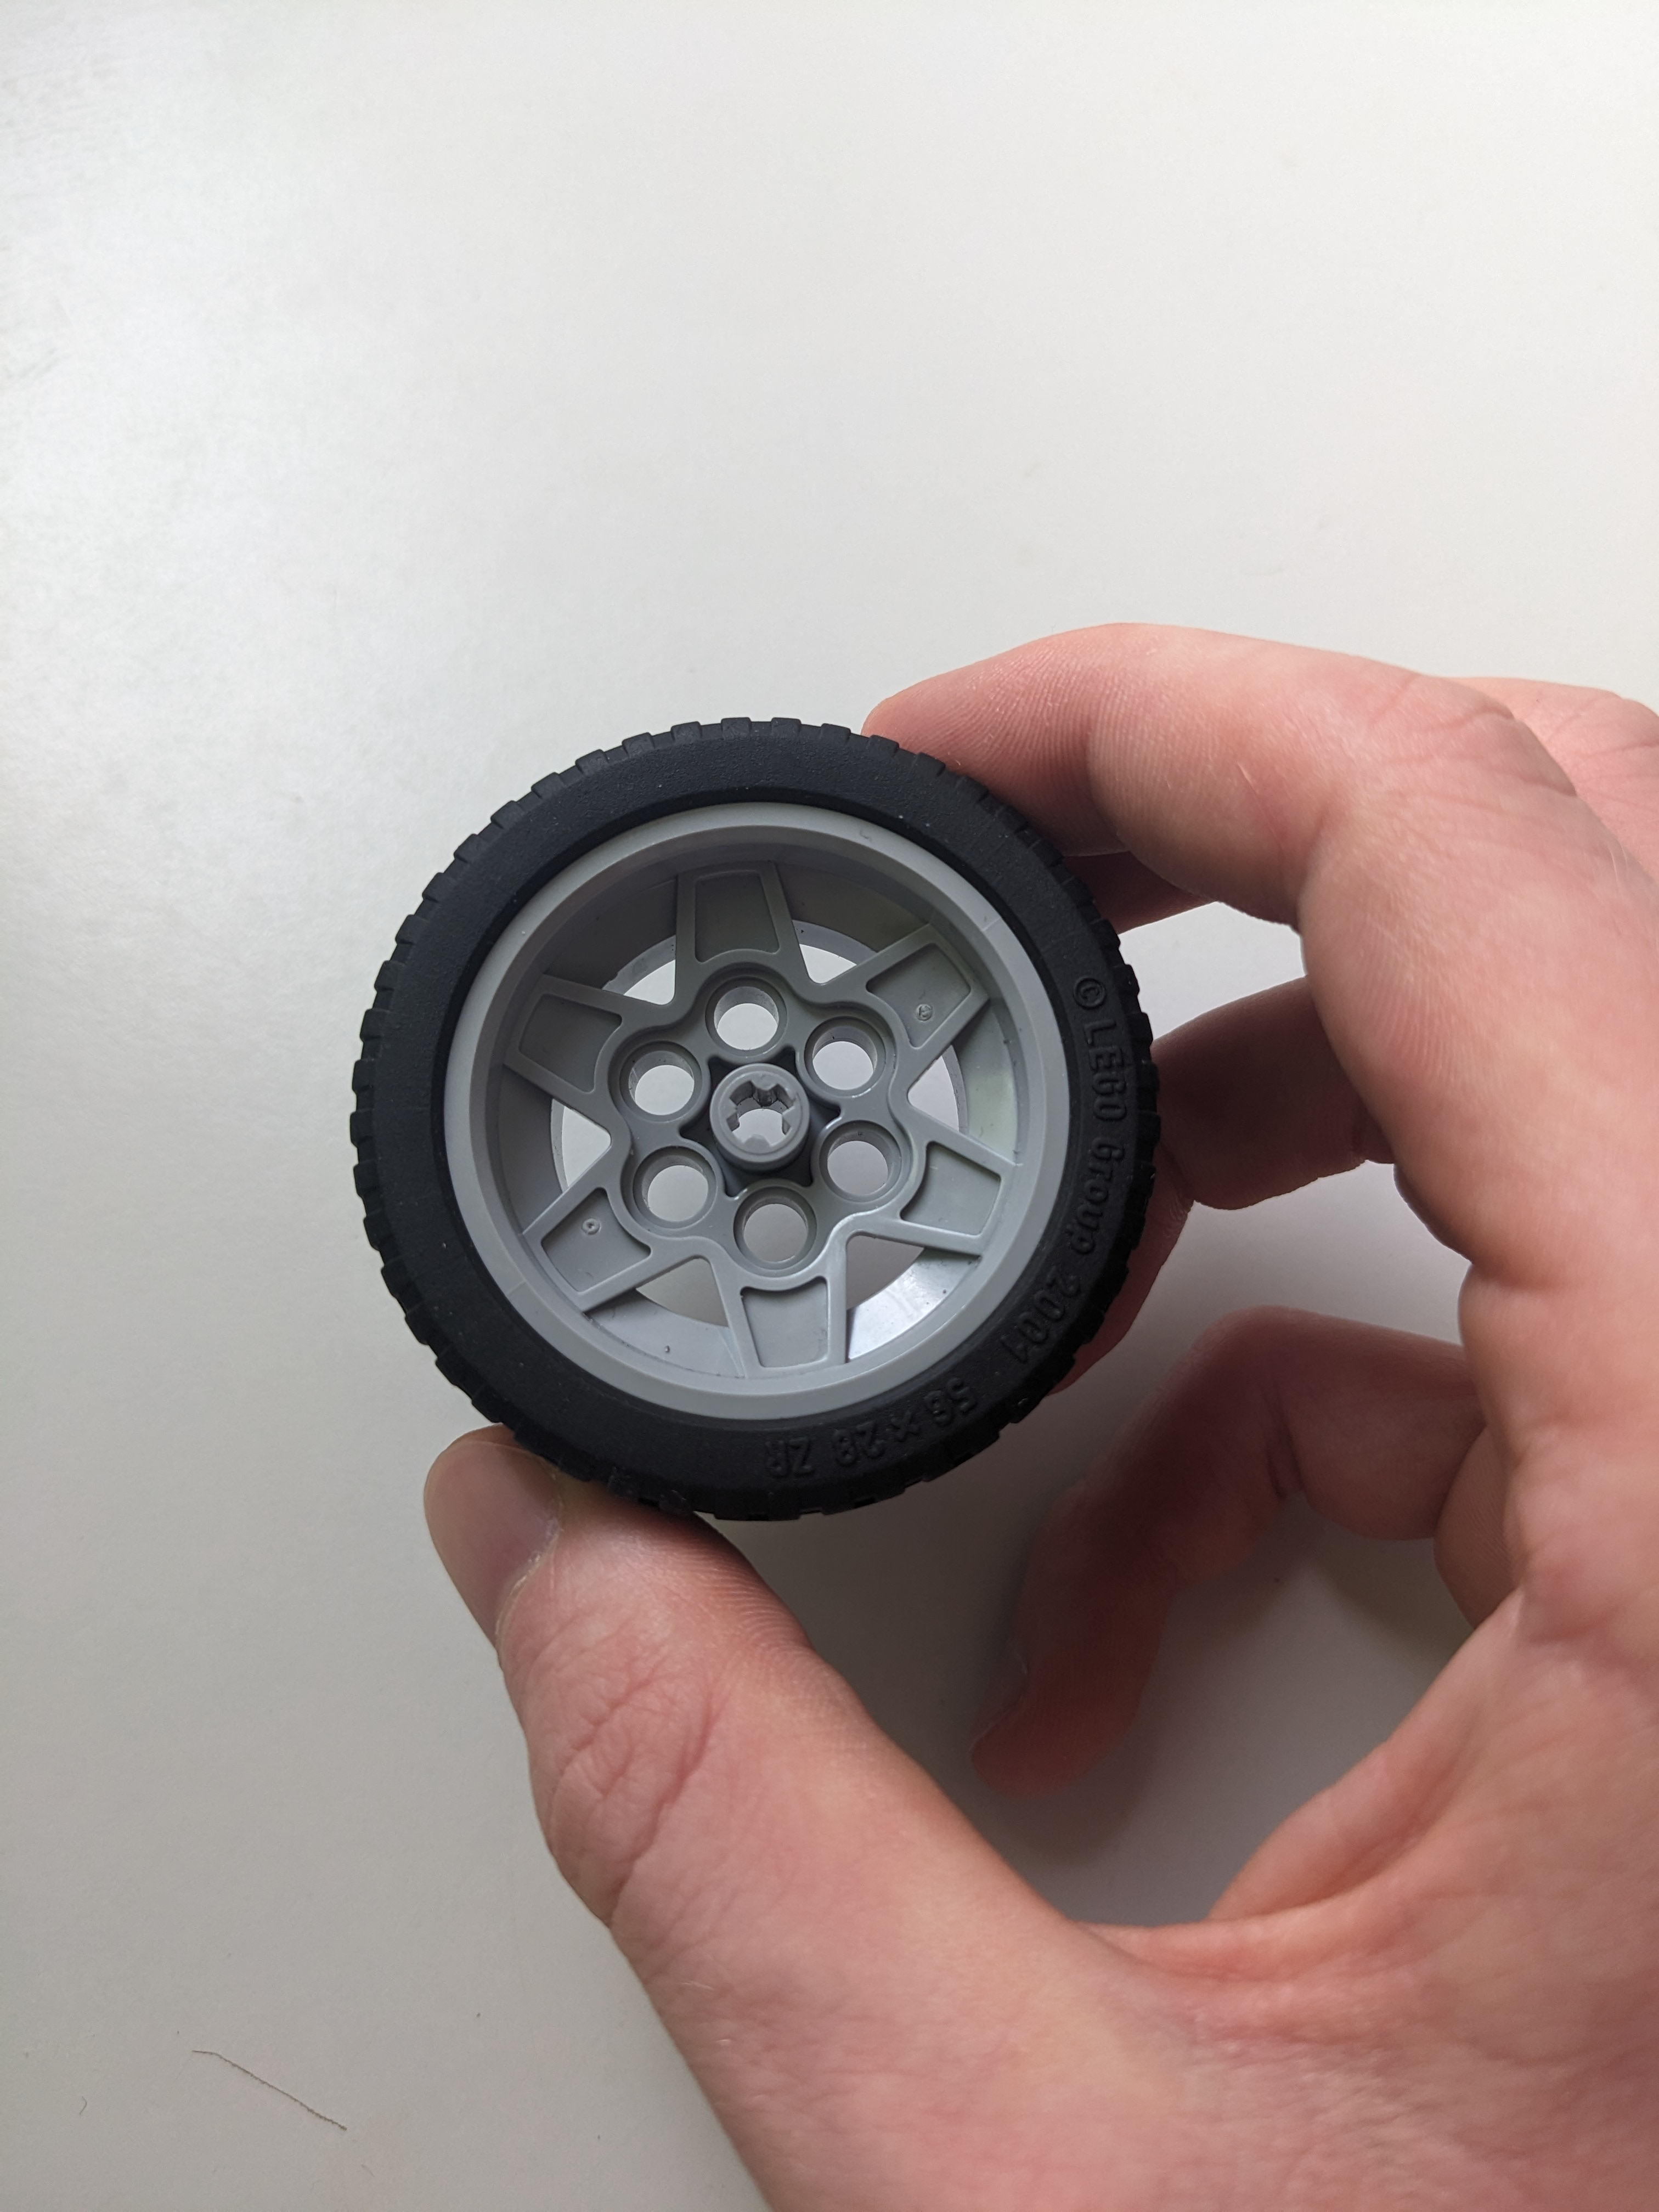Rad: (326, 693, 1175, 1534)
